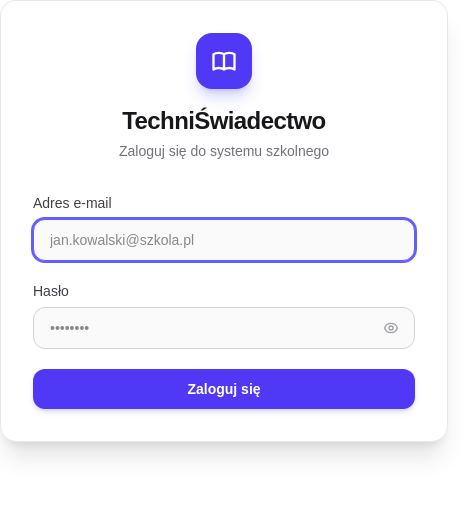
Test case: LoginForm › validates required fields on submit
The width and height of the screenshot is (465, 520).
Step 1. Click the button "Zaloguj się" → (224,389), box [33,369,415,409]
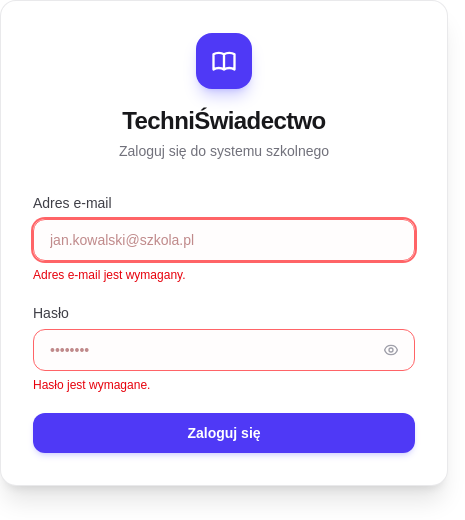
Now the text "Adres e-mail jest wymagany." is shown, box [33,268,186,282]
Now the text "Hasło jest wymagane." is shown, box [33,378,150,392]
